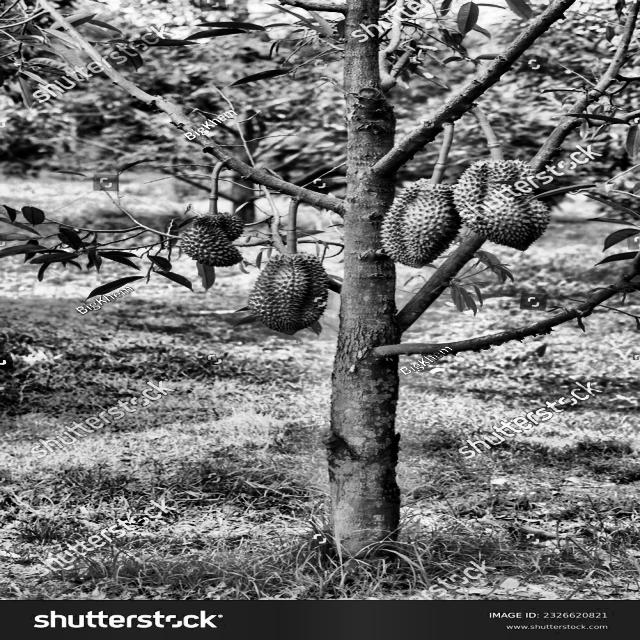arvore: (286, 0, 440, 570)
